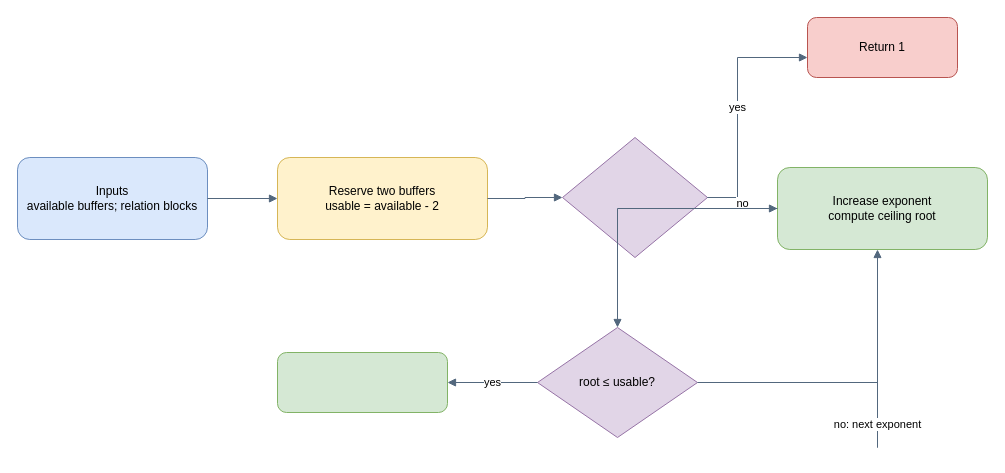
The diagram is 1005 pixels wide and 473 high, and some of its shapes have lost their labels. The shapes that lost their labels are listed below. From the top down, each one's centre as x and y in pixels, then its label:
At point 635,197: "usable ≤ 1 or size ≤ 1?".
At point 362,382: "Return root".
